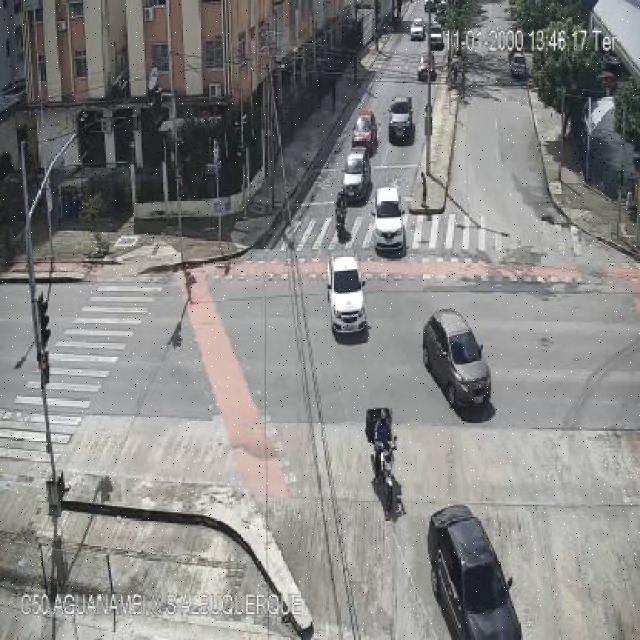Car: (426, 505, 524, 640), (422, 308, 492, 408), (324, 252, 370, 333), (372, 188, 408, 255), (340, 147, 372, 199), (387, 95, 414, 144), (353, 108, 377, 151), (417, 52, 436, 80), (409, 16, 428, 39), (428, 25, 444, 49)
Cycle: (365, 400, 404, 503), (333, 192, 348, 235)
